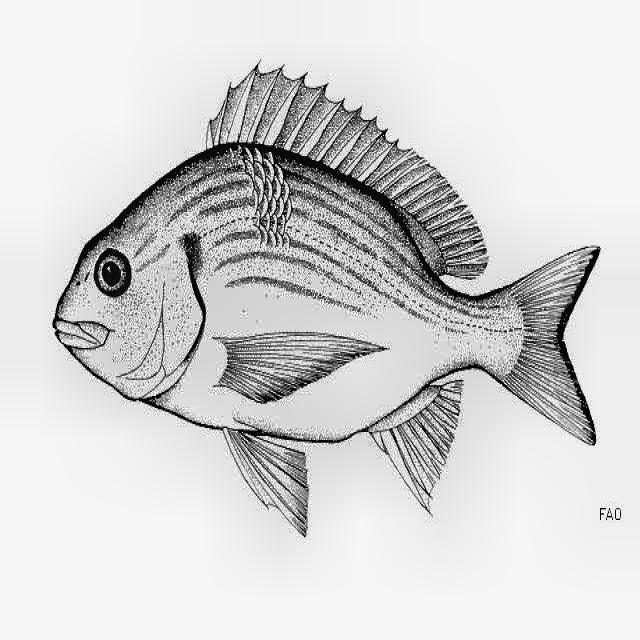fish: (46, 67, 604, 537)
